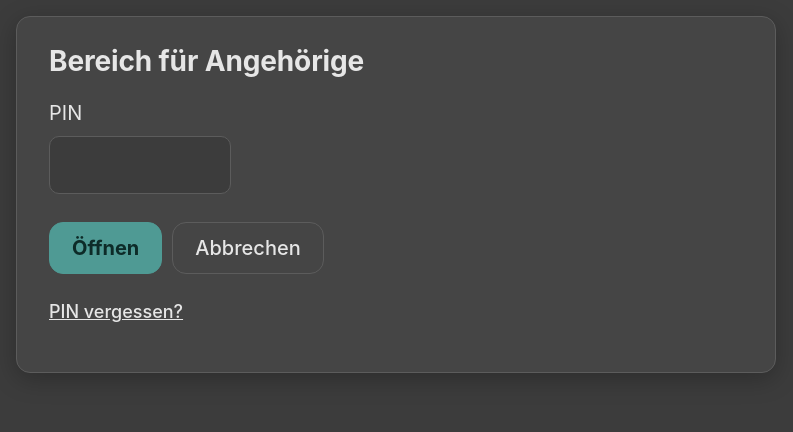
Test case: PinScreen mit gespeicherter PIN › scheitert die Prüfung: Hinweis, „Öffnen“ wieder frei, nicht entsperrt
Later steps or results of the test are not shown.
Type "2468" into the password field labelled "PIN" at x=140, y=165, box [49,136,231,194]
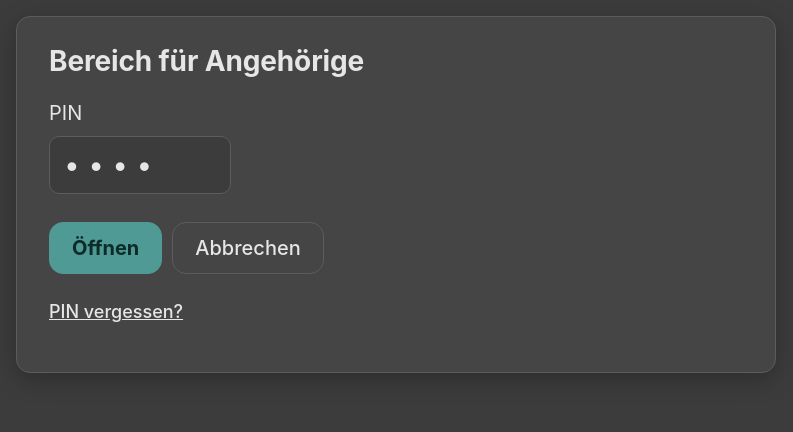
Click the button "Öffnen" at x=106, y=248, box [49,222,162,274]
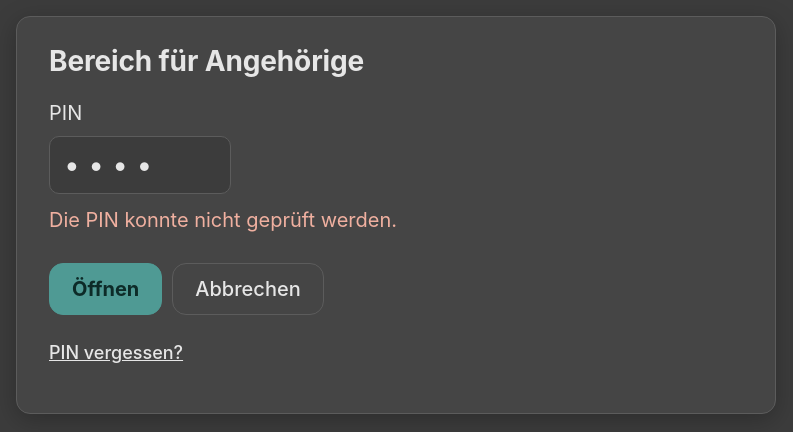
Expected: the button "Öffnen" is enabled, [49,263,162,315]
Expected: the text "Die PIN konnte nicht geprüft werden." is shown, [49,208,397,232]
